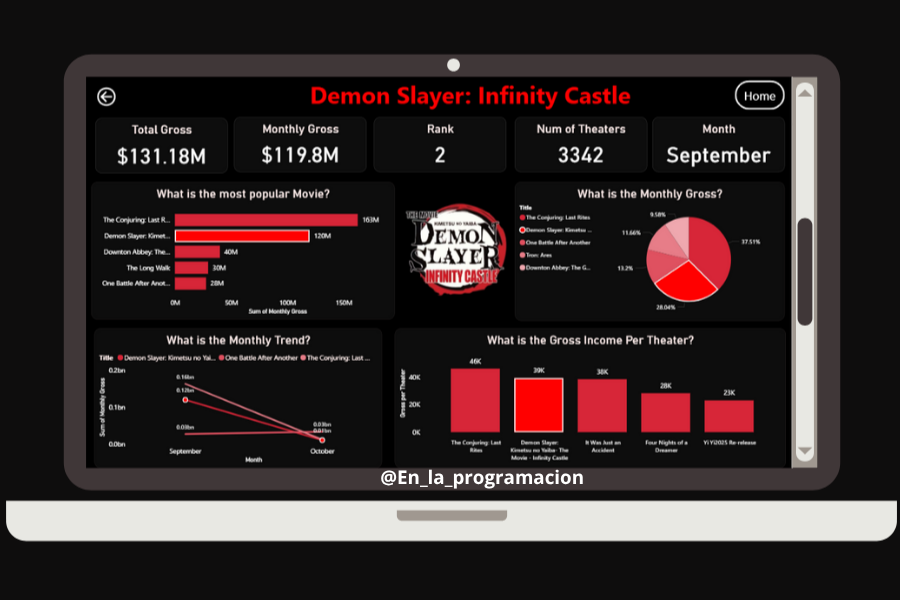

The page's visual inventory and layout, read from the dashboard file:
{"tool":"powerbi","page":{"name":"September","canvas":[1280,720],"ordinal":2},"visuals":[{"type":"clusteredBarChart","title":"What is the most popular Movie?","fields":{"Category":["box_office_sept_oct_2025.Title"],"Y":["Sum(box_office_sept_oct_2025.Monthly Gross)"]},"box":[11.3,192.8,549.9,249.5],"z":0},{"type":"lineChart","title":"What is the Monthly Trend?","fields":{"Category":["box_office_sept_oct_2025.Month"],"Y":["Sum(box_office_sept_oct_2025.Monthly Gross)"],"Series":["box_office_sept_oct_2025.Title"]},"box":[17,457.3,521.6,253.2],"z":1000},{"type":"pieChart","title":"What is the Monthly Gross?","fields":{"Y":["Sum(box_office_sept_oct_2025.Monthly Gross)"],"Category":["box_office_sept_oct_2025.Title"]},"box":[778.6,192.8,489.5,251.3],"z":2000},{"type":"card","title":"Monthly Gross","fields":{"Values":["Sum(box_office_sept_oct_2025.Monthly Gross)"]},"box":[270,76,240,100],"z":3000},{"type":"clusteredColumnChart","title":"What is the Gross Income Per Theater?","fields":{"Y":["Sum(box_office_sept_oct_2025.Gross per Theater)"],"Category":["box_office_sept_oct_2025.Title"]},"box":[561.3,457.3,708.7,253.2],"z":4000},{"type":"textbox","box":[389.3,0,629.3,92.6],"z":5000},{"type":"card","title":"Total Gross","fields":{"Values":["Sum(box_office_sept_oct_2025.Total Gross)"]},"box":[18.8,76.9,240,100],"z":6000},{"type":"card","title":"Rank","fields":{"Values":["Sum(box_office_sept_oct_2025.Rank)"]},"box":[524,76,240,100],"z":7000},{"type":"card","title":"Num of Theaters","fields":{"Values":["Sum(box_office_sept_oct_2025.Theaters)"]},"box":[778,76,240,100],"z":8000},{"type":"card","title":"Month","fields":{"Values":["Min(box_office_sept_oct_2025.Month)"]},"box":[1028,76,240,100],"z":10000},{"type":"actionButton","box":[7.6,7.6,69.9,62.4],"z":11000},{"type":"actionButton","box":[1177.3,9.4,90.7,52.9],"z":12000},{"type":"image","box":[572.6,185.2,206,249.5],"z":12001}]}

Visuals, with their boxes on the page's 1280x720 design canvas (x1, y1, x2, y2). These are canvas units, not pixel positions in the 900x600 screenshot, which may show the page scaled, cropped or inside an application window:
"What is the most popular Movie?" clusteredBarChart: l=11, t=193, r=561, b=442
"What is the Monthly Trend?" lineChart: l=17, t=457, r=539, b=710
"What is the Monthly Gross?" pieChart: l=779, t=193, r=1268, b=444
"Monthly Gross" card: l=270, t=76, r=510, b=176
"What is the Gross Income Per Theater?" clusteredColumnChart: l=561, t=457, r=1270, b=710
textbox: l=389, t=0, r=1019, b=93
"Total Gross" card: l=19, t=77, r=259, b=177
"Rank" card: l=524, t=76, r=764, b=176
"Num of Theaters" card: l=778, t=76, r=1018, b=176
"Month" card: l=1028, t=76, r=1268, b=176
actionButton: l=8, t=8, r=78, b=70
actionButton: l=1177, t=9, r=1268, b=62
image: l=573, t=185, r=779, b=435
